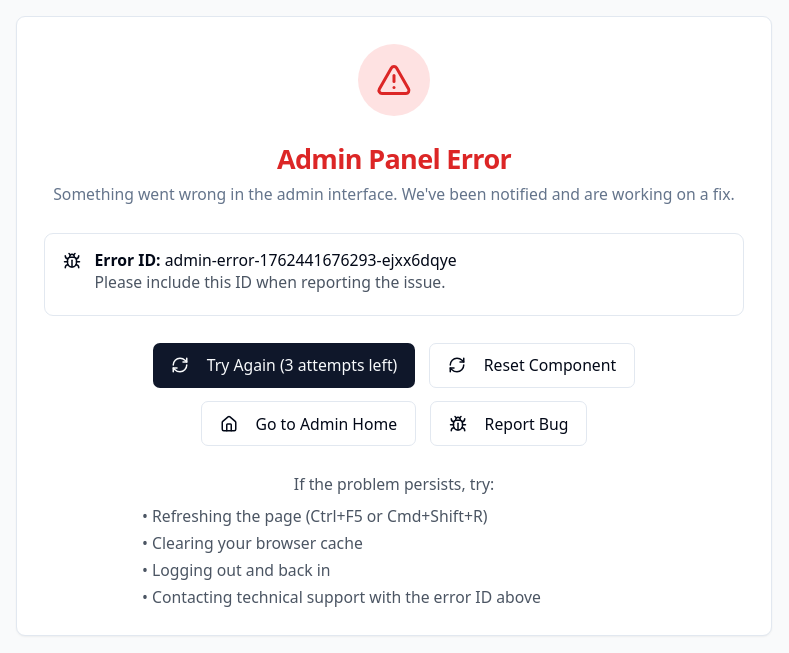
Test: AdminErrorBoundary › disables retry button after max attempts
// Exhaust all retry attempts
Click the button "Try Again (3 attempts left)": (284, 365) [153, 343, 415, 388]
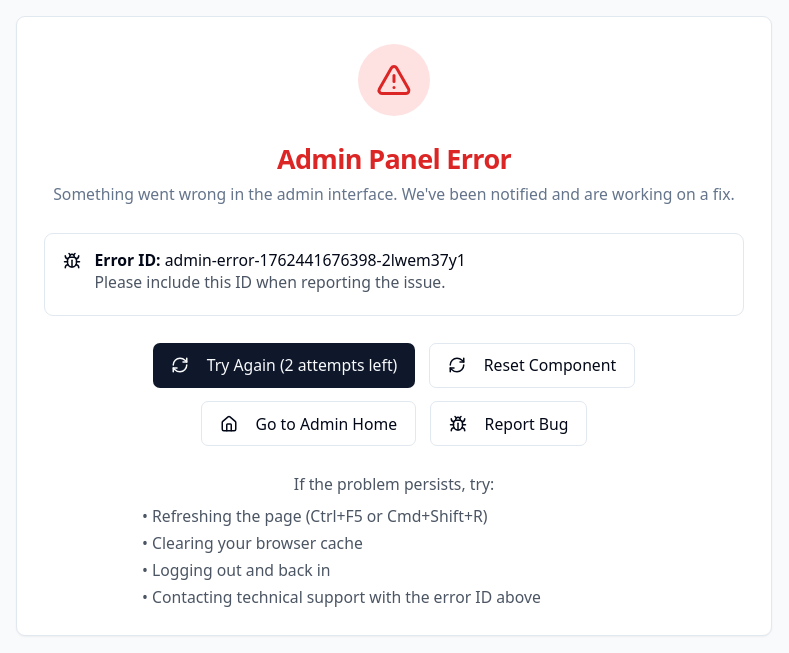
Click the button "Try Again (2 attempts left)": (284, 365) [153, 343, 415, 388]
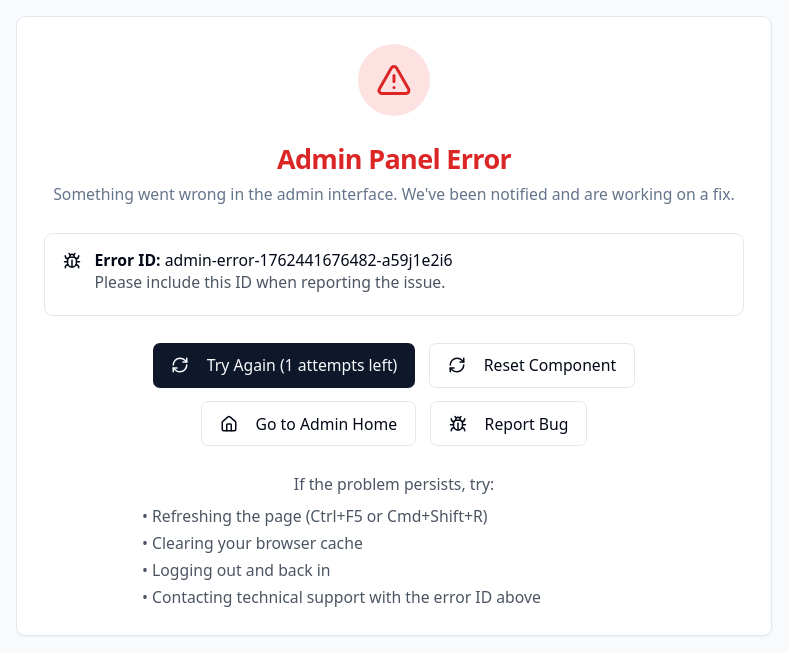
Click the button "Try Again (1 attempts left)": (284, 365) [153, 343, 415, 388]
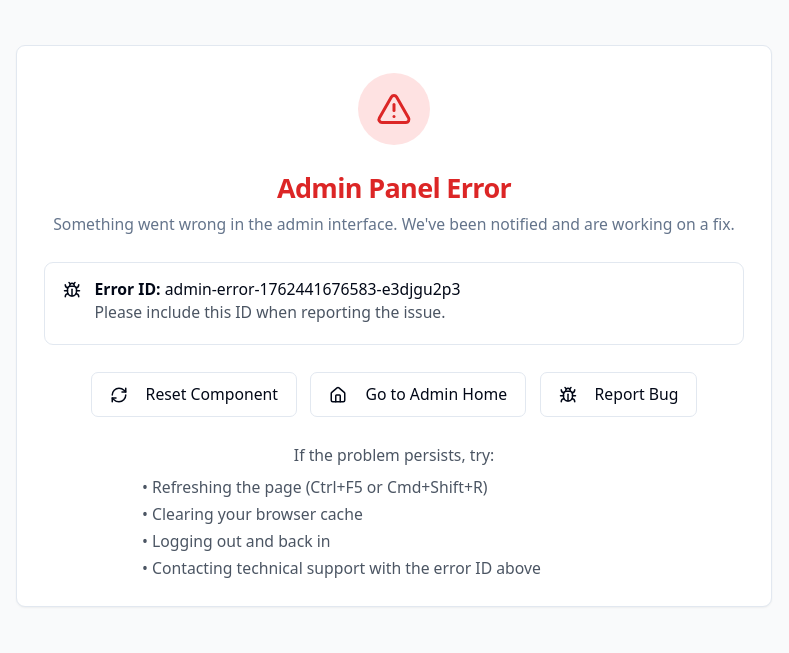
expect the button "Try Again" is gone: met
